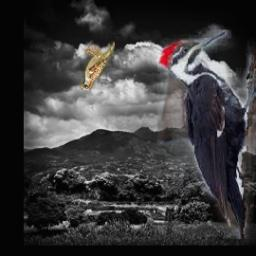Sparrow: (81, 41, 116, 90)
Woodpecker: (157, 30, 256, 239)
